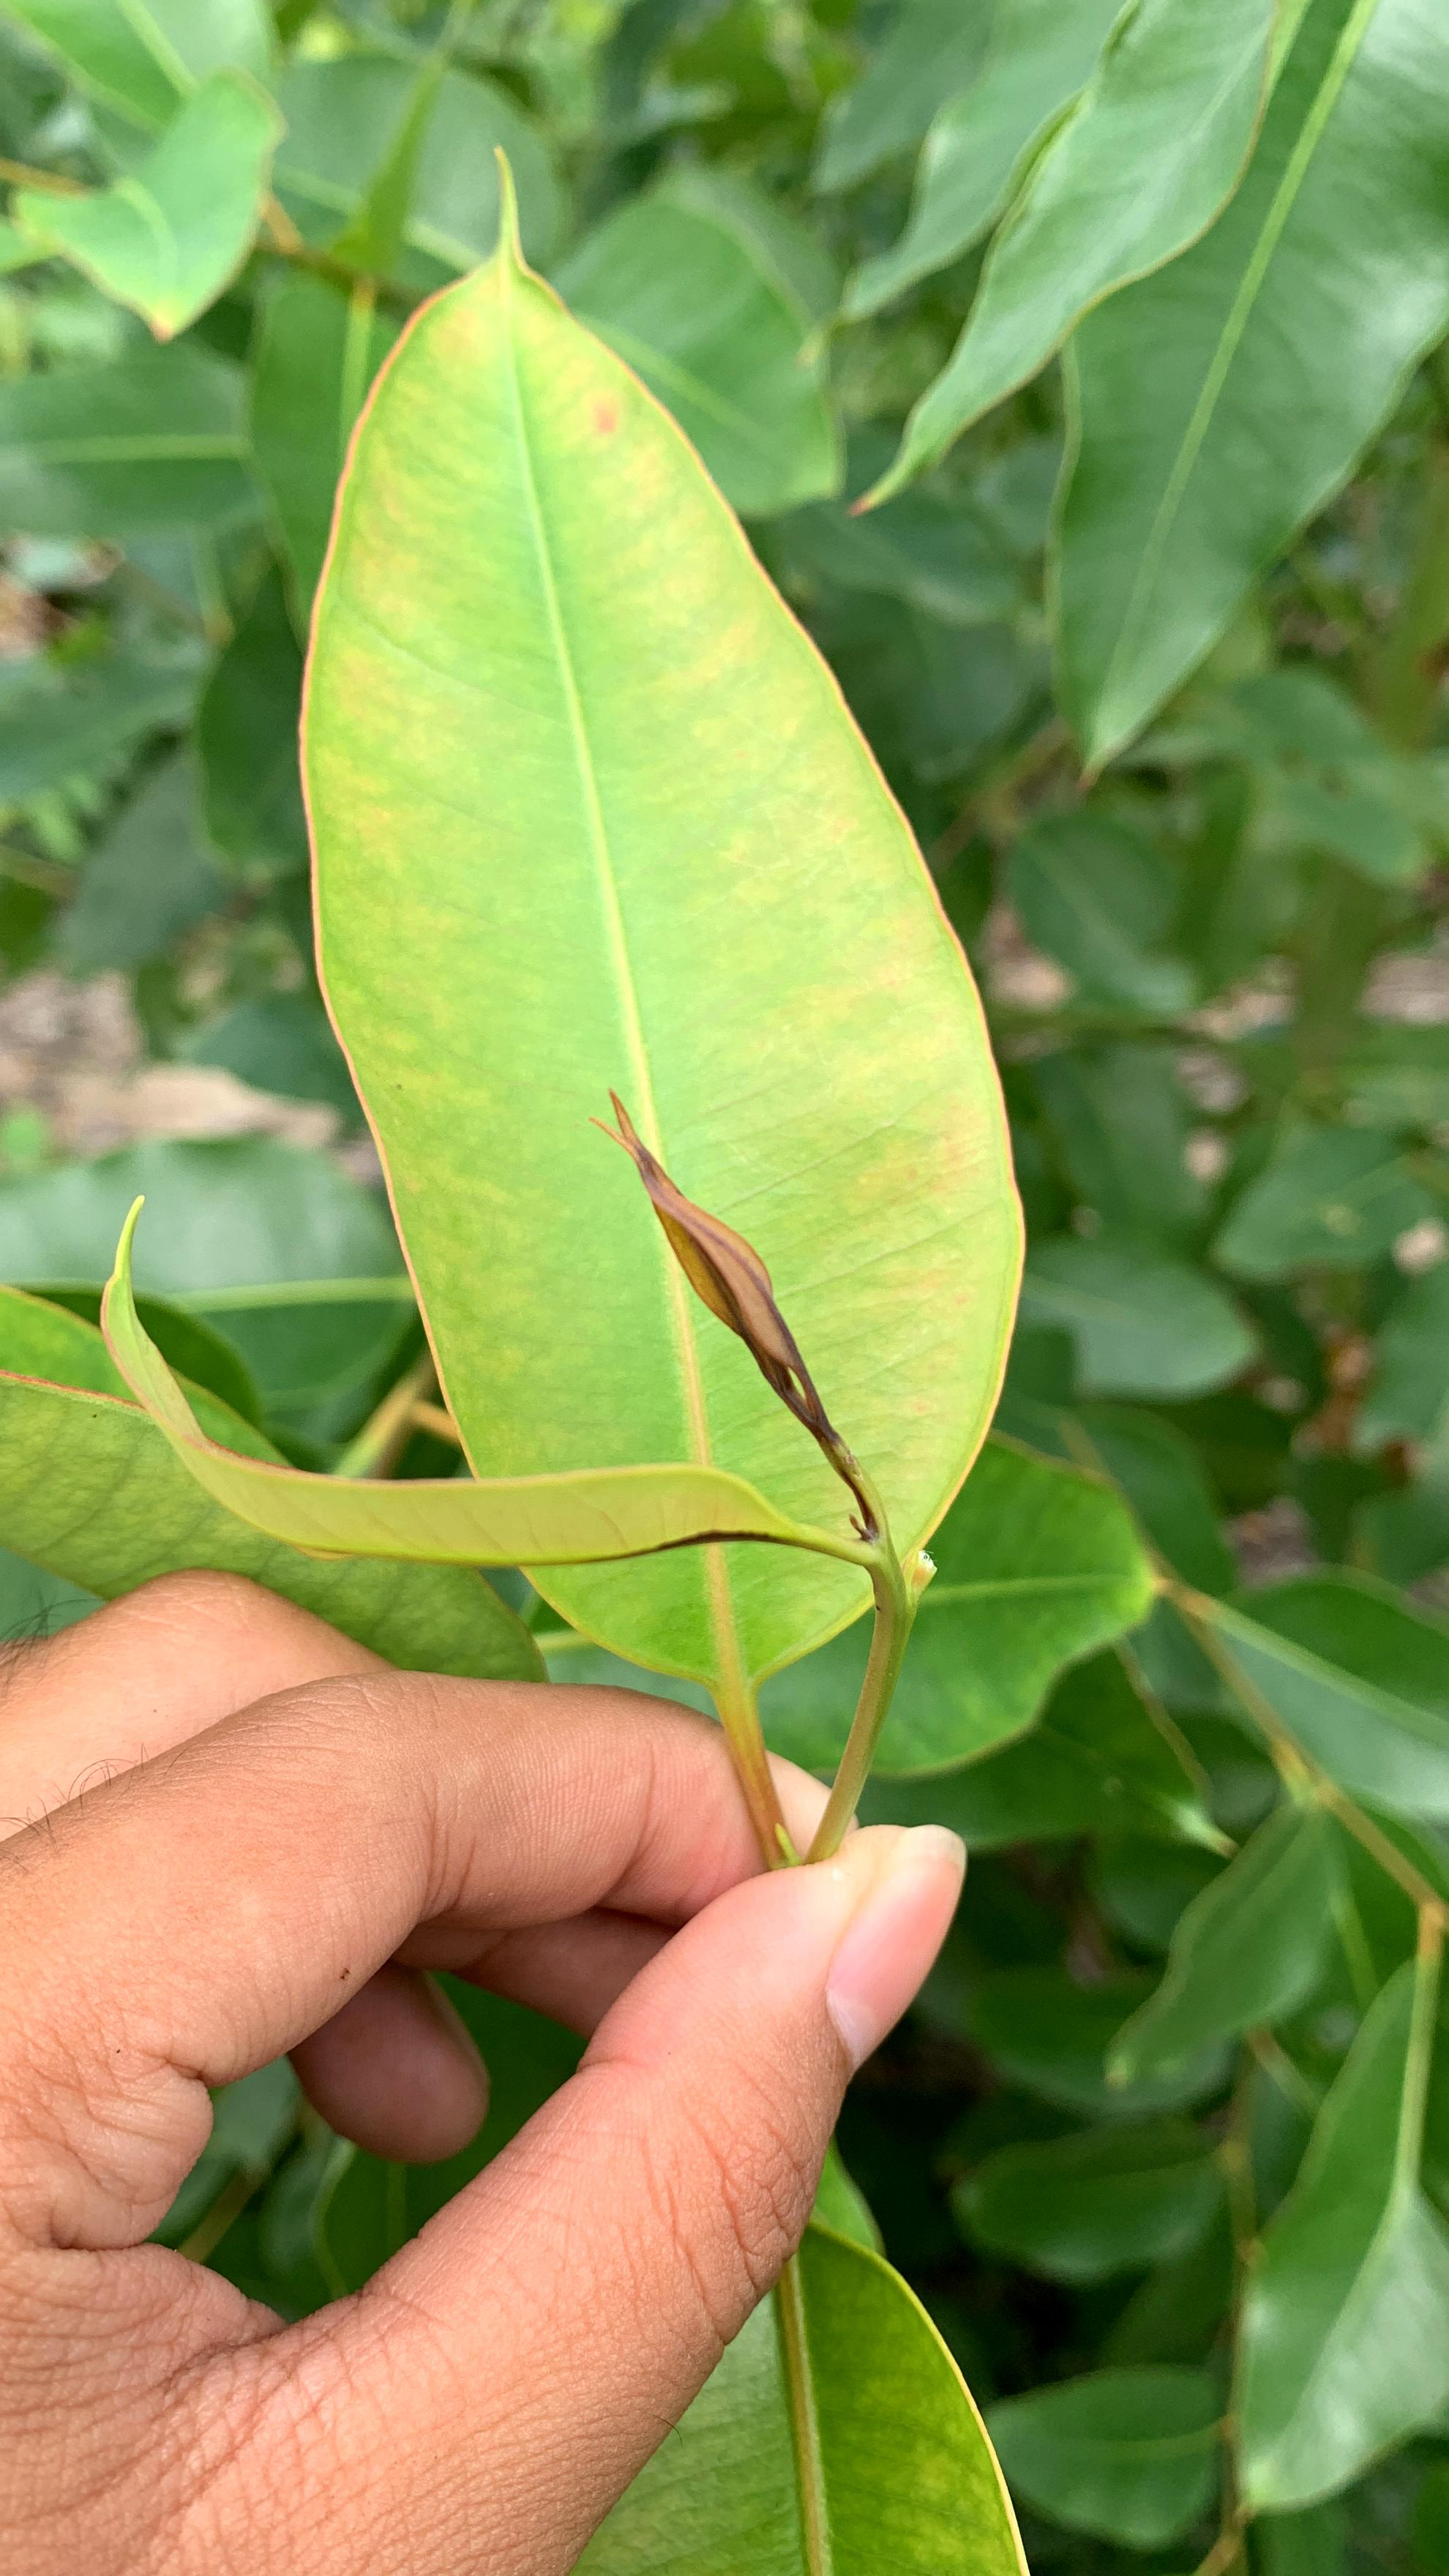Helopeltis-Withered Sprout: (572, 1070, 951, 1547)
